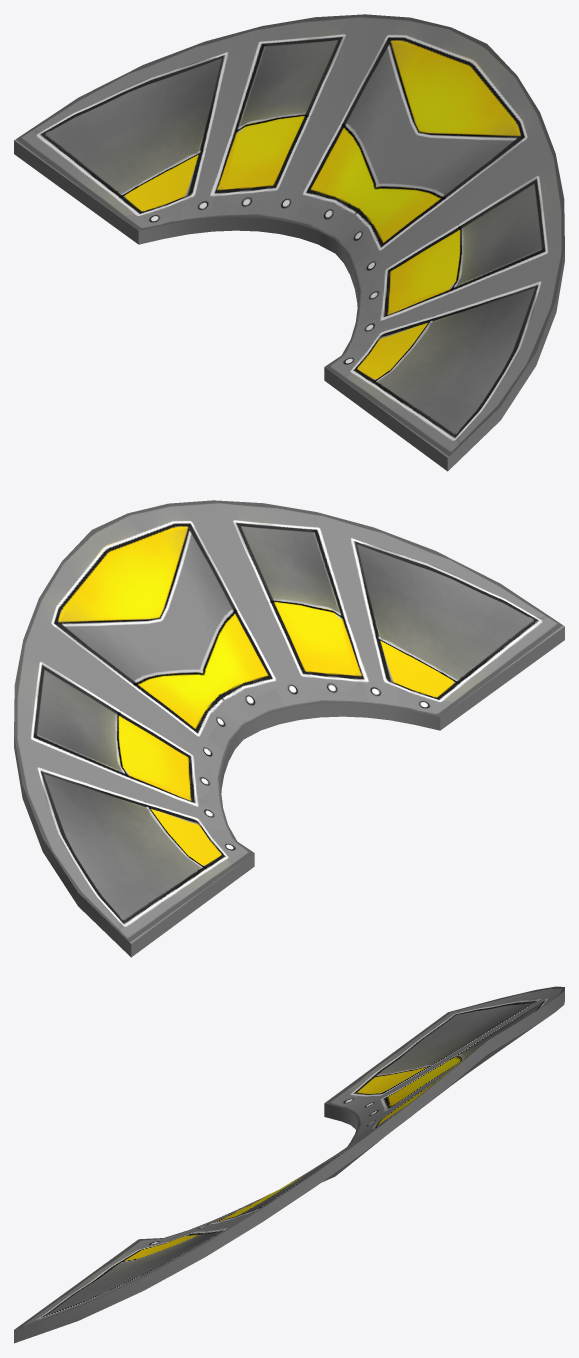
Rendered from space_curve.gltf.
The picture shows the model from 3 angles, top to bottom: view 1: azimuth 30°, elevation 25°; view 2: azimuth 150°, elevation 25°; view 3: azimuth 330°, elevation 25°; orthographic projection.
Parts seen in each view (by area): view 1: space_curve_glb; view 2: space_curve_glb; view 3: space_curve_glb.
Part boxes in pixels (bbox=[...]): space_curve_glb: bbox=[14, 14, 564, 471]; space_curve_glb: bbox=[14, 500, 564, 957]; space_curve_glb: bbox=[14, 986, 564, 1343].
Size of what is drawn, in the model's own units: 4.77 by 3.67 by 13.99.
1 material, 1 textured.
